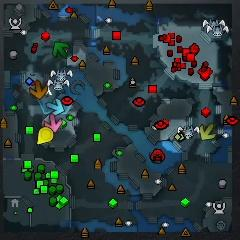p4: (37, 126, 53, 145)
x1: (45, 115, 62, 133)
x2: (199, 124, 216, 140)
x3: (46, 99, 64, 115)
x4: (53, 42, 69, 59)
x5: (30, 80, 47, 100)
